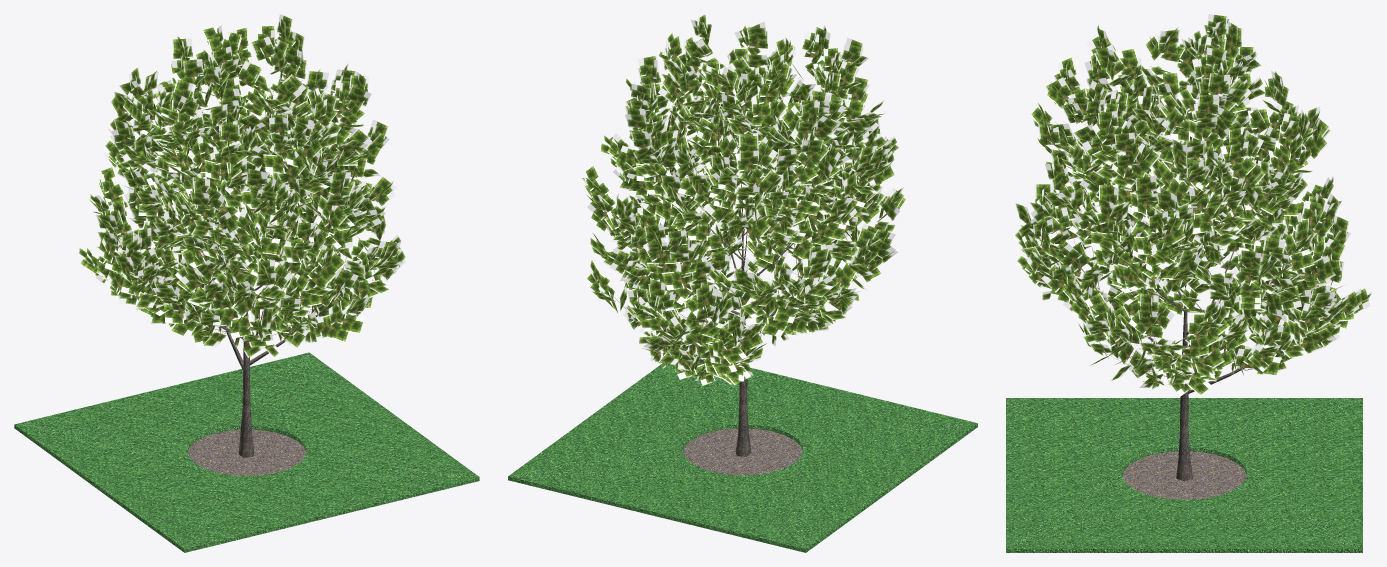
File: maple_tree.glb
3 views of the same model, side by side, from view 1: azimuth 30°, elevation 25°; view 2: azimuth 150°, elevation 25°; view 3: azimuth 270°, elevation 25° (orthographic). The views are drawn at different scales.
Parts seen in each view (by area): view 1: Material2 (×3); view 2: Material2 (×3); view 3: Material2 (×3).
Boxes of the visible parts, left/top/right/bottom form: Material2 (×3): left=14, top=246, right=479, bottom=552; Material2 (×3): left=508, top=230, right=977, bottom=552; Material2 (×3): left=1006, top=285, right=1362, bottom=552.
Bounding box in the file's own units: 3.43 × 4.6 × 3.49.
4 materials, 4 textured.
